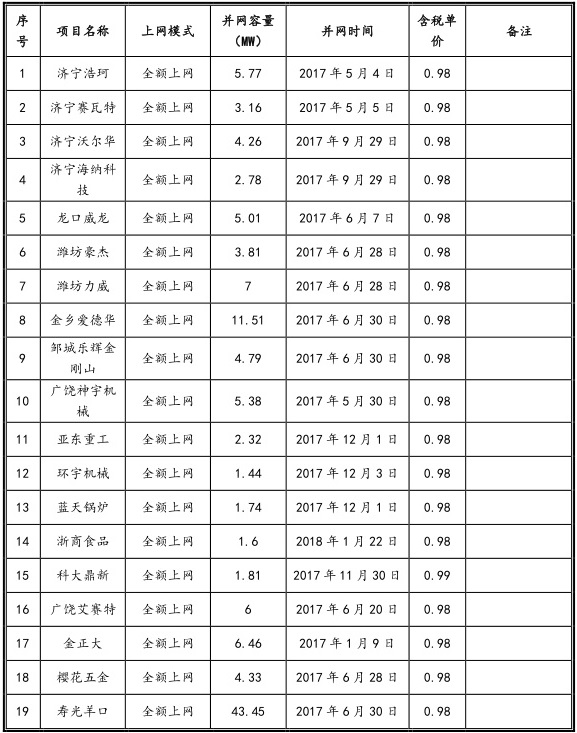column: (292, 1, 399, 732), (49, 1, 115, 733), (141, 2, 196, 733), (221, 1, 275, 732), (416, 1, 456, 732), (506, 1, 533, 732), (15, 1, 30, 733)
row: (2, 12, 577, 49), (1, 340, 577, 376), (1, 383, 577, 418), (2, 162, 576, 196), (1, 498, 577, 516), (1, 431, 577, 447), (1, 465, 577, 481), (3, 65, 577, 81), (1, 534, 577, 548), (2, 245, 577, 259), (2, 279, 577, 293), (2, 313, 577, 327), (1, 602, 576, 616), (3, 101, 576, 115), (1, 211, 577, 224), (1, 568, 577, 581), (1, 704, 577, 717), (2, 135, 577, 148), (1, 670, 577, 682), (1, 636, 577, 647)
